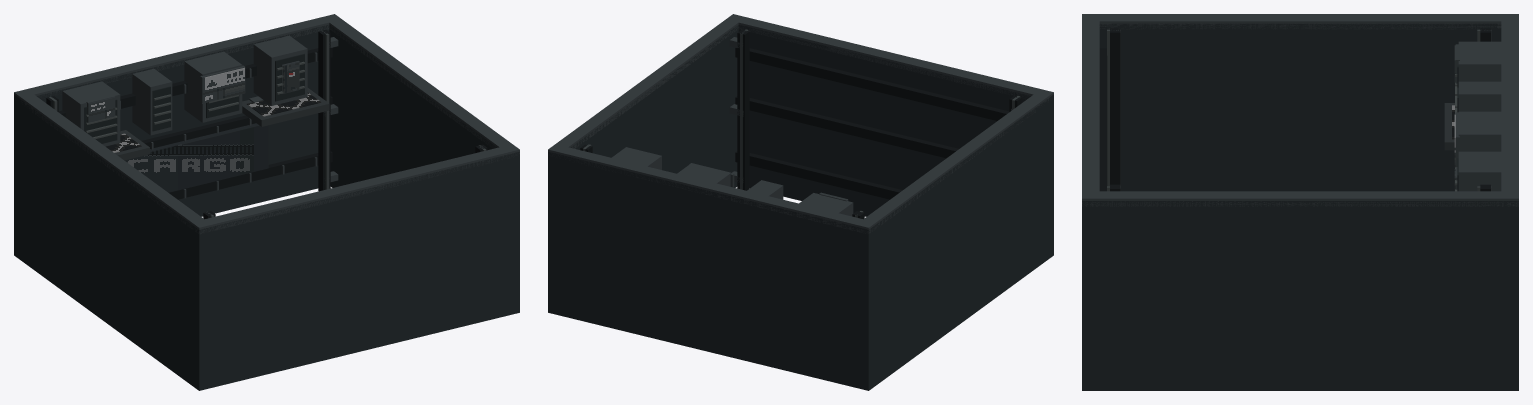
The model's file is CMU3DTopologyCargoLoweredStudyCloud.glb.
The picture shows the model from 3 angles, left to right: view 1: azimuth 30°, elevation 25°; view 2: azimuth 150°, elevation 25°; view 3: azimuth 270°, elevation 25°; orthographic projection. The views are drawn at different scales.
Visible parts, largest first — view 1: south descending shaft wall, west descending shaft wall, east descending shaft wall, north descending shaft wall, original diagonal CARGO stencil, south exposed shaft rim, north exposed shaft rim, east exposed shaft rim, west exposed shaft rim, upper north machinery housing 4, upper north machinery housing 3, upper north machinery housing 2 (+17 smaller); view 2: north descending shaft wall, west descending shaft wall, south descending shaft wall, east descending shaft wall, south exposed shaft rim, north exposed shaft rim, south inner continuous rib band 1, east exposed shaft rim, west exposed shaft rim, south inner continuous rib band 2, south inner continuous rib band 3, corner guide channel 2.12 -2.12 (+5 smaller); view 3: east descending shaft wall, west descending shaft wall, west exposed shaft rim, east exposed shaft rim, north exposed shaft rim, south exposed shaft rim, north descending shaft wall, south descending shaft wall, upper north machinery housing 3, upper north machinery housing 1, corner guide channel -2.12 -2.12, upper north machinery housing 4 (+4 smaller).
Part boxes in pixels (<box>): south descending shaft wall: <box>191,151,519,390</box>; west descending shaft wall: <box>21,100,191,384</box>; east descending shaft wall: <box>329,25,496,187</box>; north descending shaft wall: <box>14,25,329,260</box>; original diagonal CARGO stencil: <box>124,127,253,192</box>; south exposed shaft rim: <box>191,144,519,234</box>; north exposed shaft rim: <box>14,14,341,99</box>; east exposed shaft rim: <box>329,19,512,148</box>; west exposed shaft rim: <box>21,94,203,228</box>; upper north machinery housing 4: <box>253,35,307,105</box>; upper north machinery housing 3: <box>184,51,242,122</box>; upper north machinery housing 2: <box>132,68,172,135</box>; north descending shaft wall: <box>548,151,876,390</box>; west descending shaft wall: <box>876,100,1046,384</box>; south descending shaft wall: <box>738,25,1053,260</box>; east descending shaft wall: <box>570,25,738,187</box>; south exposed shaft rim: <box>726,14,1053,102</box>; north exposed shaft rim: <box>548,144,876,233</box>; south inner continuous rib band 1: <box>735,47,1009,120</box>; east exposed shaft rim: <box>555,19,738,148</box>; west exposed shaft rim: <box>864,94,1046,228</box>; south inner continuous rib band 2: <box>735,96,958,158</box>; south inner continuous rib band 3: <box>735,151,902,199</box>; corner guide channel 2.12 -2.12: <box>737,30,749,190</box>; east descending shaft wall: <box>1099,201,1501,390</box>; west descending shaft wall: <box>1099,23,1501,191</box>; west exposed shaft rim: <box>1099,14,1501,29</box>; east exposed shaft rim: <box>1099,191,1501,206</box>; north exposed shaft rim: <box>1501,14,1518,206</box>; south exposed shaft rim: <box>1082,14,1099,206</box>; north descending shaft wall: <box>1501,201,1518,390</box>; south descending shaft wall: <box>1082,201,1099,390</box>; upper north machinery housing 3: <box>1458,111,1501,151</box>; upper north machinery housing 1: <box>1458,41,1501,81</box>; corner guide channel -2.12 -2.12: <box>1110,28,1120,184</box>; upper north machinery housing 4: <box>1458,151,1501,191</box>.
Bounding box in the file's own units: 5 × 2.43 × 5.
14 materials, 6 textured.
